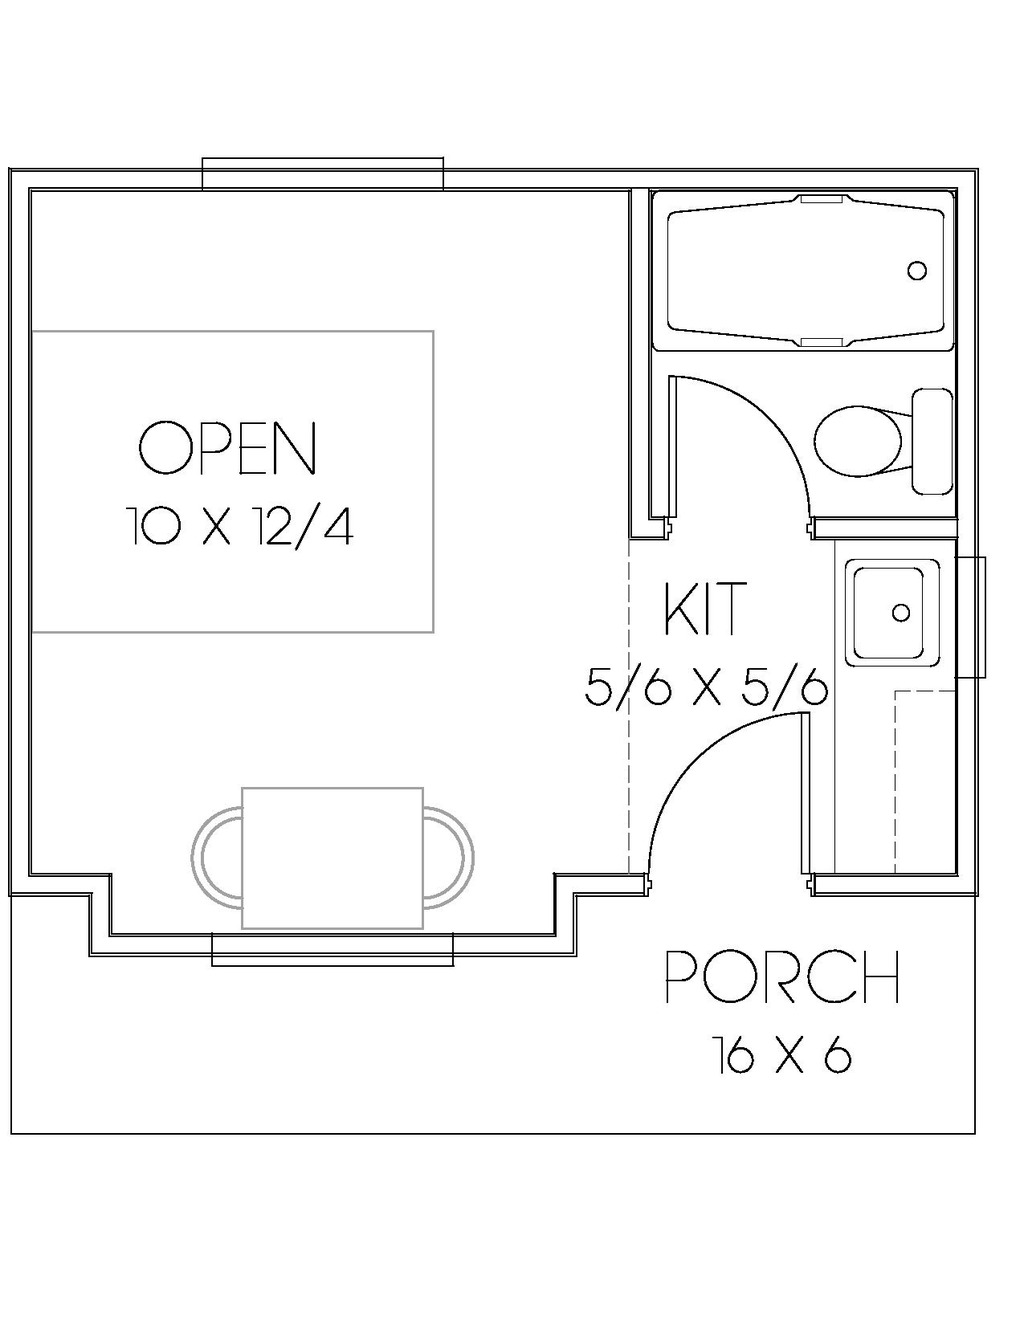door: (649, 708, 827, 870), (657, 377, 813, 537)
large_sink: (815, 357, 959, 508)
small_sink: (837, 555, 943, 690)
tub: (648, 196, 959, 343)
window: (202, 147, 445, 196), (208, 934, 460, 968)
